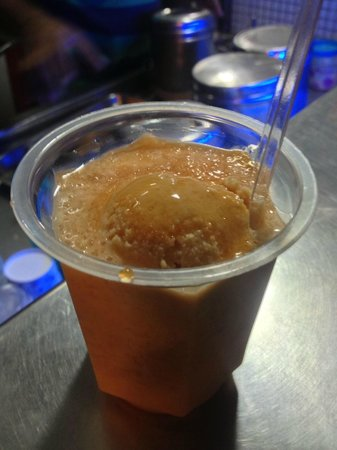jigirthanda: (40, 117, 259, 405)
